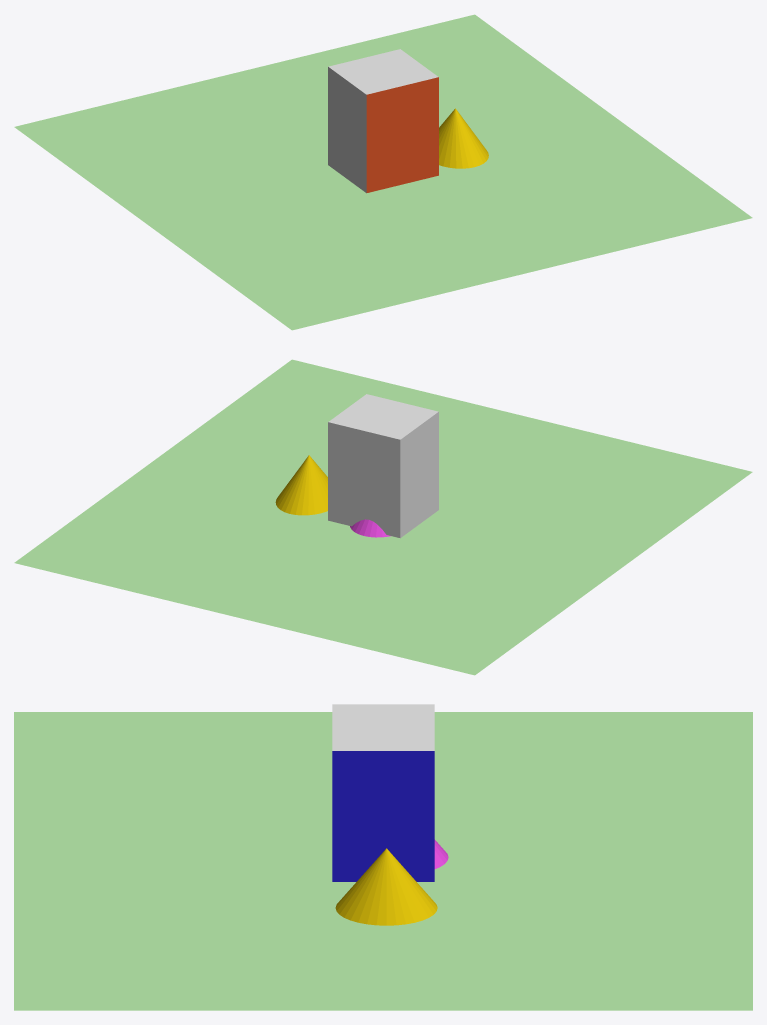
The model's file is teste.gltf.
3 renders of one model, top to bottom at view 1: azimuth 30°, elevation 25°; view 2: azimuth 150°, elevation 25°; view 3: azimuth 270°, elevation 25°, orthographic. The views are drawn at different scales.
Visible parts, largest first — view 1: Plane; view 2: Plane; view 3: Plane.
Boxes of the visible parts, box(x1,y1,x2,y2) form: Plane: box(14, 14, 752, 330); Plane: box(14, 359, 752, 675); Plane: box(14, 704, 752, 1010).
Size of the model in its own units: 0.8494 by 0.1771 by 0.8875.
